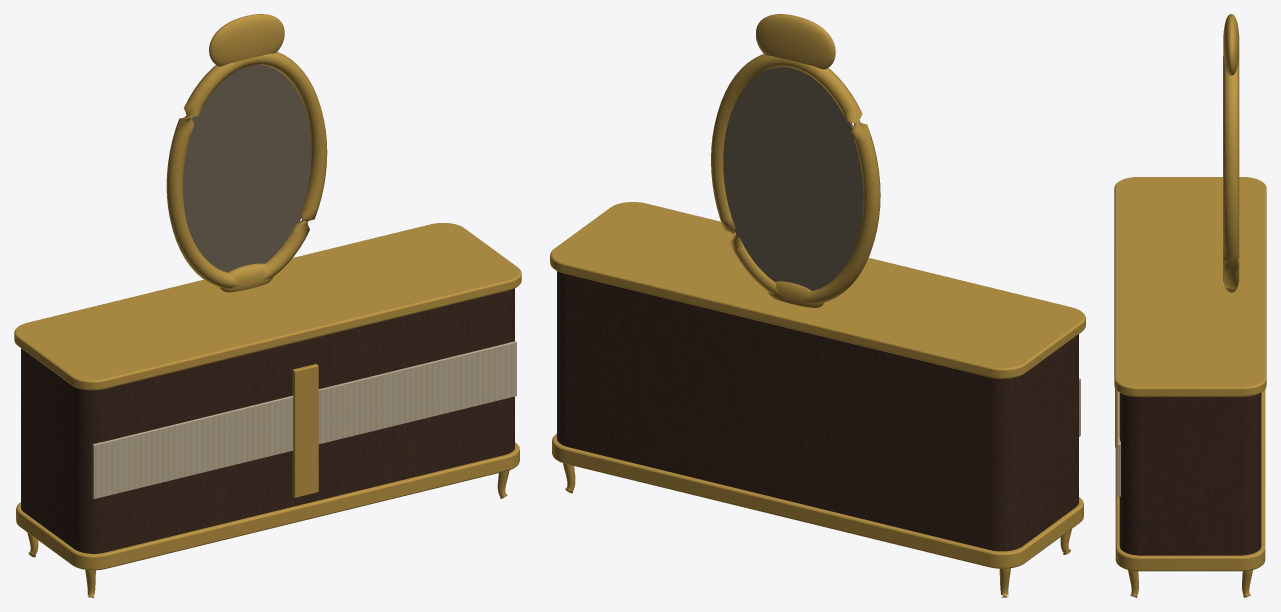
Rendered from empire-royal-bed-set--dresser.glb.
3 renders of one model, left to right at view 1: azimuth 30°, elevation 25°; view 2: azimuth 150°, elevation 25°; view 3: azimuth 270°, elevation 25°, orthographic. The views are drawn at different scales.
Parts seen in each view (by area): view 1: body, top, band, mglass, skirt, mframe, panel, mcrest, mfoot; view 2: body, top, mglass, skirt, mframe, mcrest, mfoot; view 3: top, body, skirt, mframe, mcrest, band, leg11, leg1-1.
Boxes of the visible parts, <box> form: body: <box>21,288,514,553</box>; top: <box>14,223,521,390</box>; band: <box>92,341,516,499</box>; mglass: <box>183,64,311,272</box>; skirt: <box>16,442,519,570</box>; mframe: <box>166,52,327,288</box>; panel: <box>292,364,318,497</box>; mcrest: <box>209,14,284,68</box>; mfoot: <box>220,263,273,292</box>; body: <box>557,271,1078,551</box>; top: <box>550,202,1085,378</box>; mglass: <box>723,67,863,290</box>; skirt: <box>552,434,1083,568</box>; mframe: <box>711,54,880,303</box>; mcrest: <box>756,14,835,69</box>; mfoot: <box>767,281,823,307</box>; top: <box>1114,177,1266,396</box>; body: <box>1119,393,1261,555</box>; skirt: <box>1115,389,1265,571</box>; mframe: <box>1223,55,1239,289</box>; mcrest: <box>1223,14,1239,75</box>; band: <box>1117,391,1120,496</box>; leg11: <box>1242,570,1252,597</box>; leg1-1: <box>1128,570,1138,597</box>.
Bounding box in the file's own units: 1.84 × 1.95 × 0.56.
Materials: 4 (2 with a texture image).
